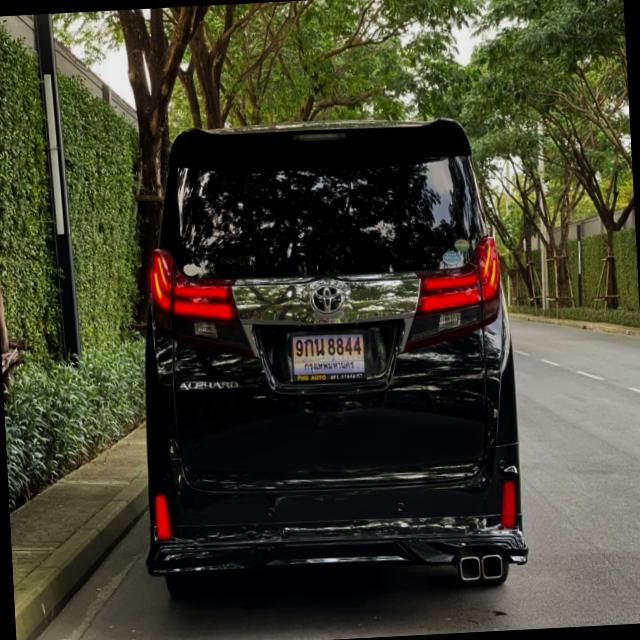license_plate: (290, 327, 369, 384)
